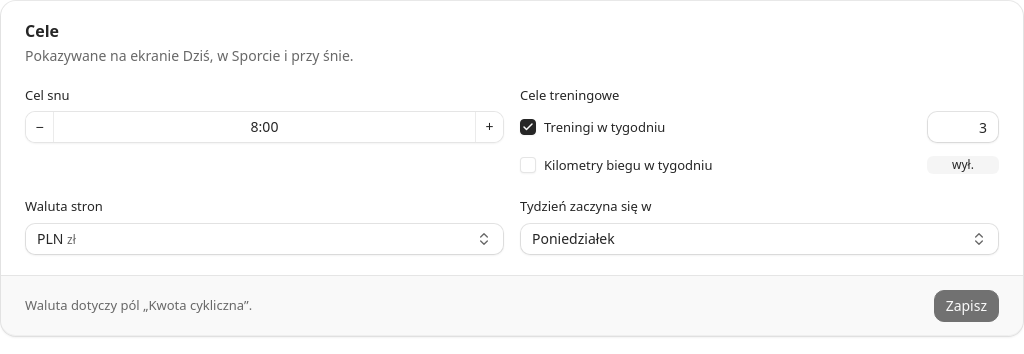
GoalsCard › zmiana snu i zapis → saveGoals i komunikat o Dziś; Cofnij działa przed zapisem
Click the button named "Zwiększ Cel snu". click: (489, 127)
box: x1=475 y1=112 x2=503 y2=142
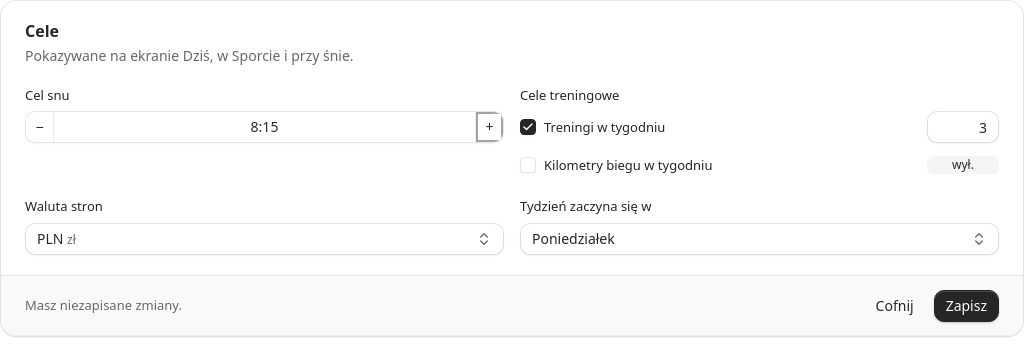
Expected: the text "8:15" is shown, x1=54 y1=112 x2=475 y2=142
Click the button "Cofnij". click: (895, 306)
box: x1=864 y1=290 x2=926 y2=322
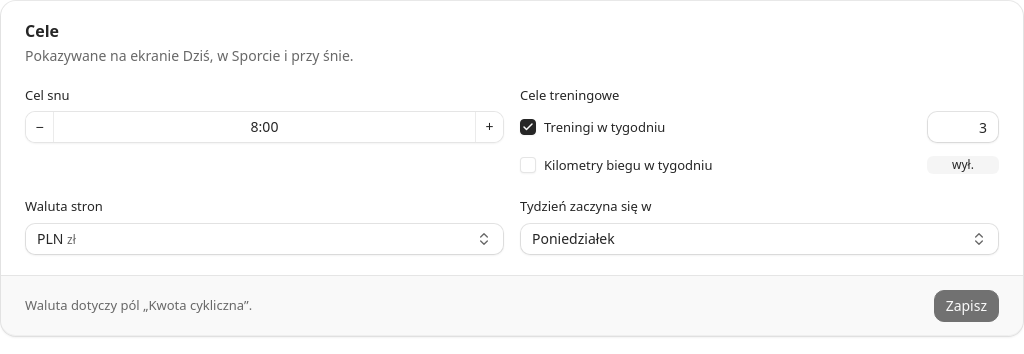
Expected: the text "8:00" is shown, x1=54 y1=112 x2=475 y2=142
Click the button named "Zwiększ Cel snu". click: (489, 127)
box: x1=475 y1=112 x2=503 y2=142
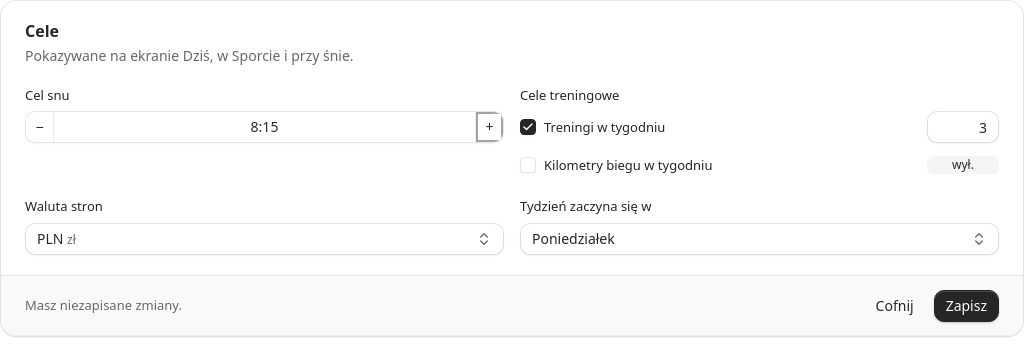
Click the button "Zapisz". click: (966, 306)
box: x1=934 y1=290 x2=999 y2=322
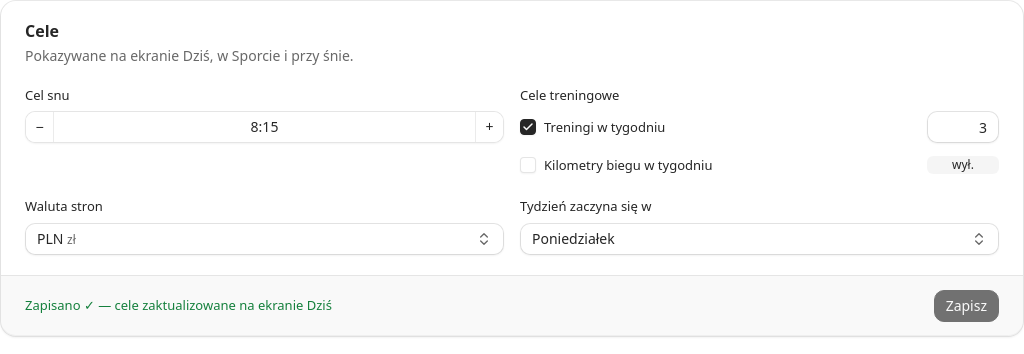
Expected: the text "Zapisano ✓ — cele zaktualizowane na ekranie Dziś" is shown, x1=25 y1=296 x2=332 y2=316
